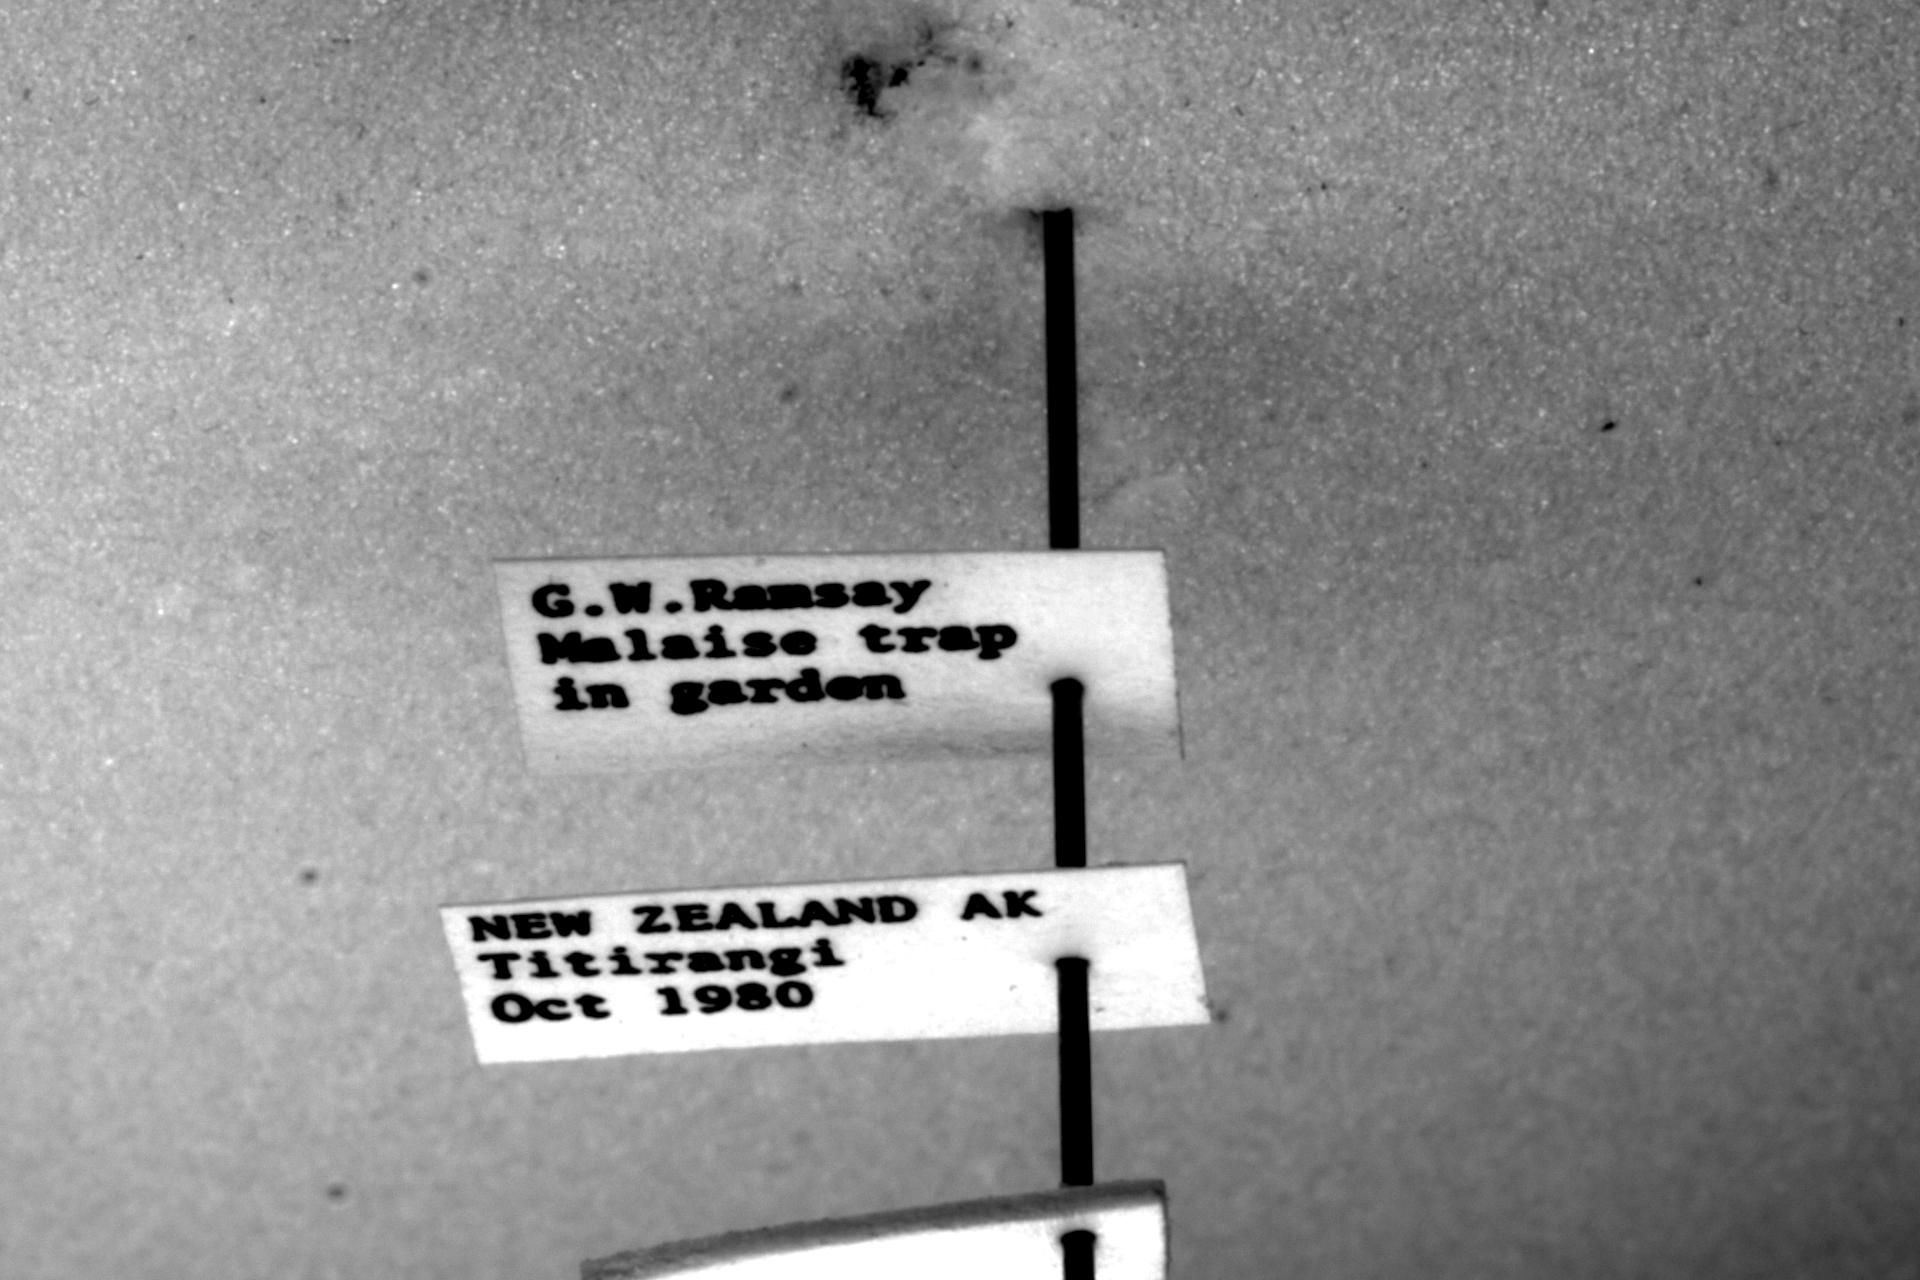typed_label: (439, 863, 1211, 1066), (494, 551, 1181, 776)
